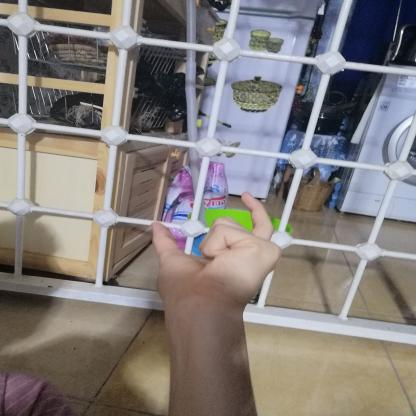NOON: (134, 180, 298, 335)
